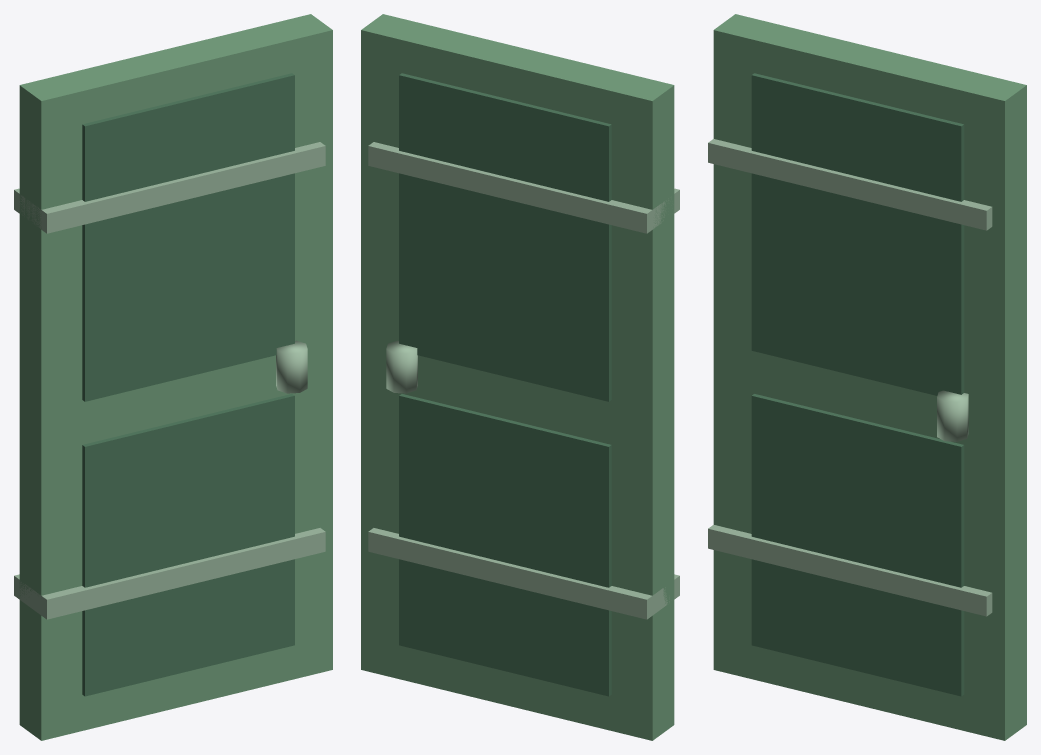
File: green_dungeon_door_v0.glb
3 views of the same model, side by side, from view 1: azimuth 30°, elevation 25°; view 2: azimuth 150°, elevation 25°; view 3: azimuth 330°, elevation 25° (orthographic).
Parts seen in each view (by area): view 1: green_dungeon_door_v0; view 2: green_dungeon_door_v0; view 3: green_dungeon_door_v0.
Part boxes in pixels (x1,y1,x2,y2): green_dungeon_door_v0: (14,14,332,740); green_dungeon_door_v0: (361,14,679,740); green_dungeon_door_v0: (708,14,1026,740).
Bounding box in the file's own units: 0.92 × 1.93 × 0.27.
